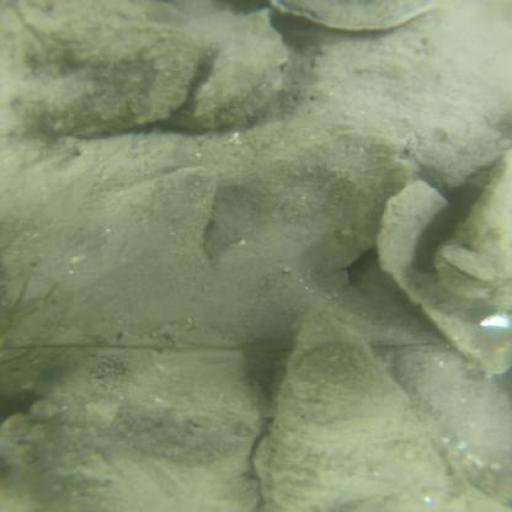Oyster-Closed: (1, 345, 264, 512), (268, 333, 451, 510), (10, 3, 201, 136), (194, 25, 287, 130), (441, 153, 511, 289)
